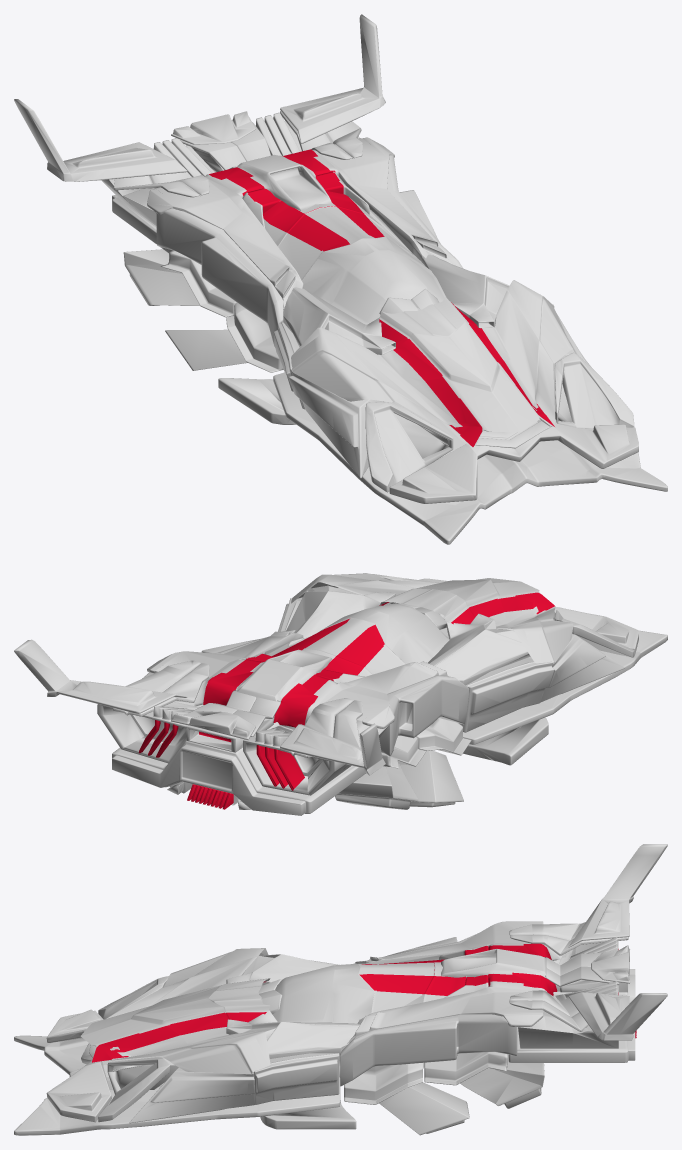
The model's file is Auto_1_FINAL.fbx.
3 views of the same model, one above another, from view 1: azimuth 30°, elevation 25°; view 2: azimuth 150°, elevation 25°; view 3: azimuth 270°, elevation 25° (orthographic). The views are drawn at different scales.
Visible parts, largest first — view 1: Auto_1; view 2: Auto_1; view 3: Auto_1.
Boxes of the visible parts, x1,y1,x2,y2 form: Auto_1: [14, 14, 667, 544]; Auto_1: [14, 573, 667, 815]; Auto_1: [14, 844, 667, 1135].
Size of the model in its own units: 234 by 122 by 429.
